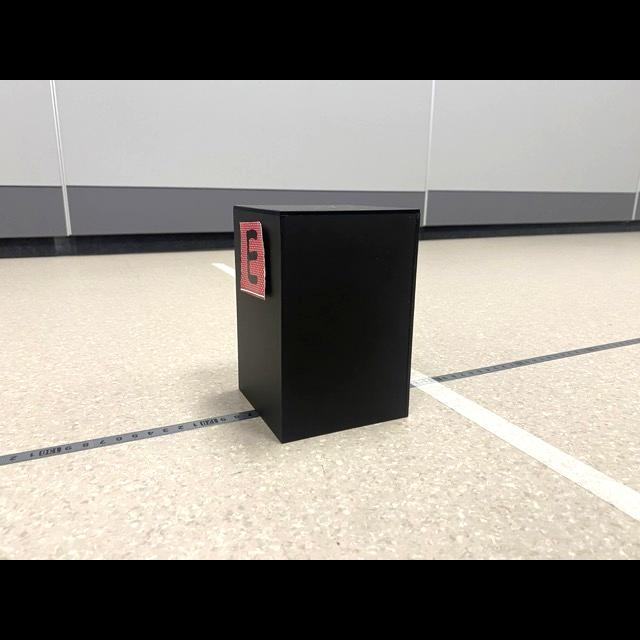E: (246, 229, 258, 285)
